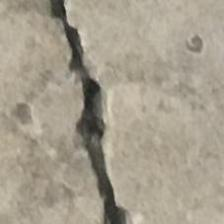Crack: (34, 0, 165, 224)
